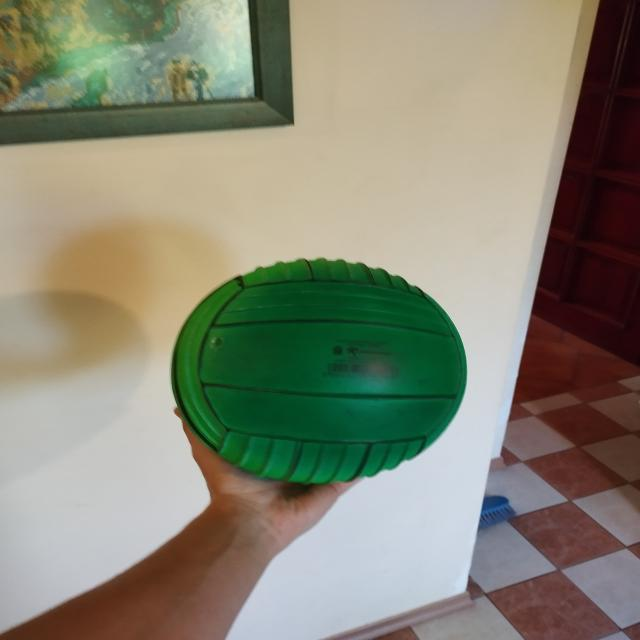zielona: (171, 258, 467, 485)
